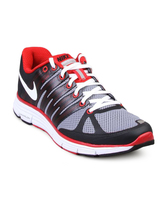shoes: (11, 42, 168, 162)
